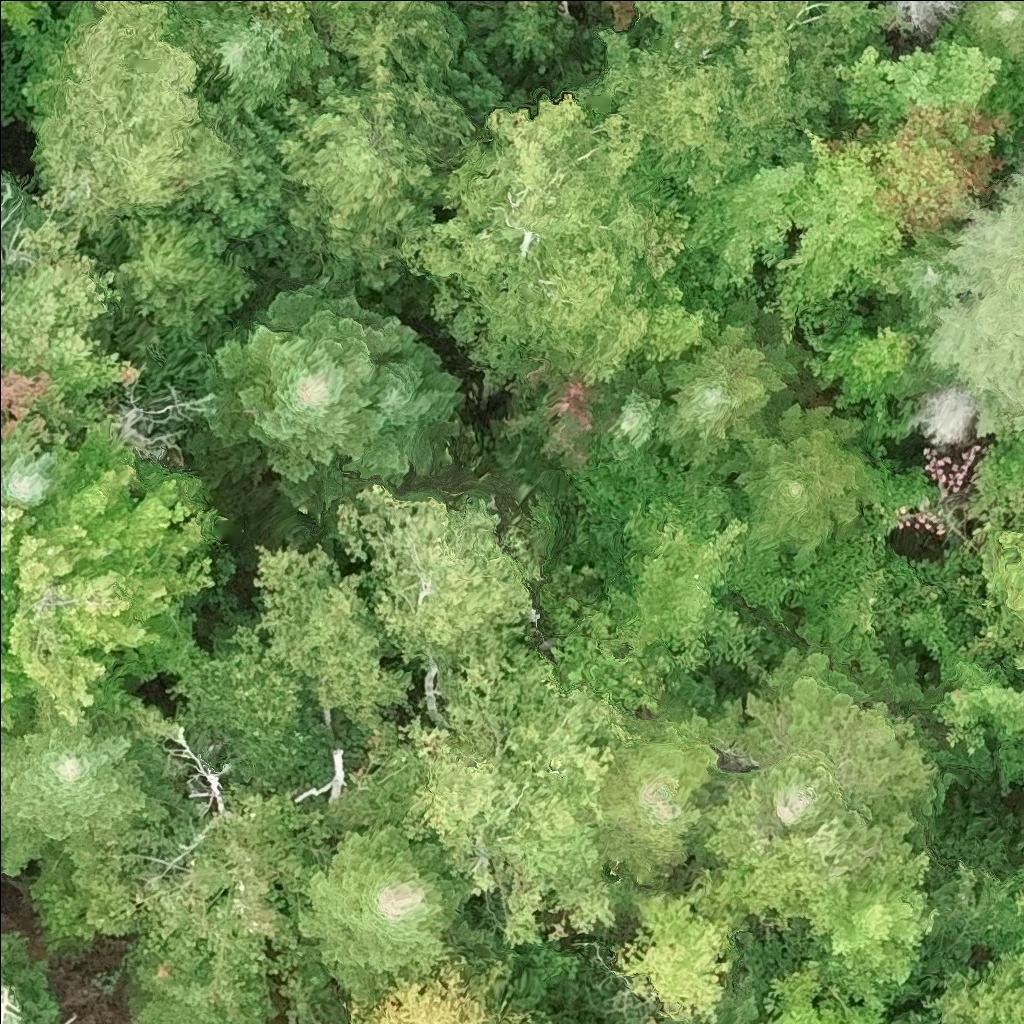crown: (398, 563, 676, 949), (0, 0, 289, 257), (402, 103, 656, 392), (0, 413, 224, 732), (701, 649, 955, 890), (597, 0, 898, 192), (569, 453, 809, 672), (201, 272, 414, 507), (273, 63, 486, 294), (330, 477, 542, 662), (140, 783, 334, 976), (0, 209, 143, 456), (0, 694, 173, 883), (251, 542, 416, 732), (764, 126, 909, 338), (172, 615, 342, 794), (296, 820, 463, 998), (919, 161, 1023, 443), (601, 694, 743, 890), (711, 401, 879, 562), (654, 298, 815, 466), (693, 779, 854, 941), (821, 106, 1013, 232), (830, 12, 1023, 130), (172, 0, 344, 120), (114, 211, 262, 342), (815, 849, 939, 1002), (615, 880, 744, 1023), (676, 156, 809, 289), (924, 637, 1023, 796), (125, 937, 280, 1023), (971, 429, 1023, 679), (371, 337, 467, 472), (323, 0, 463, 89), (350, 953, 509, 1023), (924, 934, 1023, 1023), (758, 957, 888, 1023), (875, 226, 954, 330), (593, 355, 669, 461), (628, 168, 693, 284), (225, 0, 413, 37), (0, 430, 82, 510), (962, 0, 1023, 61), (718, 969, 770, 1023), (887, 0, 962, 36), (0, 0, 60, 35), (995, 870, 1023, 937), (493, 1010, 553, 1023), (606, 0, 636, 26), (661, 1014, 708, 1023)
